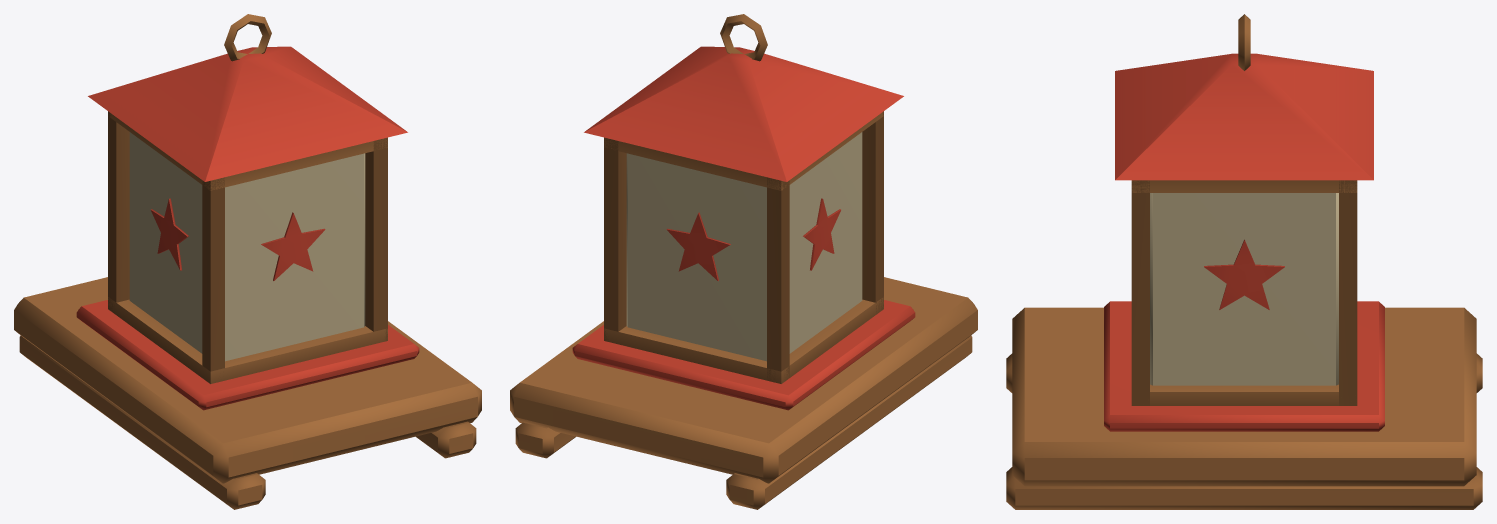
Rendered from lantern-boat.glb.
The picture shows the model from 3 angles, left to right: view 1: azimuth 30°, elevation 25°; view 2: azimuth 150°, elevation 25°; view 3: azimuth 270°, elevation 25°; orthographic projection. The views are drawn at different scales.
Parts seen in each view (by area): view 1: lantern-boat Lantern wood, lantern-boat Lantern trim, lantern-boat Lantern glow; view 2: lantern-boat Lantern wood, lantern-boat Lantern trim, lantern-boat Lantern glow; view 3: lantern-boat Lantern wood, lantern-boat Lantern trim, lantern-boat Lantern glow.
Boxes of the visible parts, bbox=[...] form: lantern-boat Lantern wood: bbox=[14, 14, 481, 509]; lantern-boat Lantern trim: bbox=[76, 46, 419, 410]; lantern-boat Lantern glow: bbox=[129, 132, 365, 361]; lantern-boat Lantern wood: bbox=[510, 14, 977, 509]; lantern-boat Lantern trim: bbox=[572, 46, 915, 410]; lantern-boat Lantern glow: bbox=[626, 132, 862, 361]; lantern-boat Lantern wood: bbox=[1006, 14, 1482, 509]; lantern-boat Lantern trim: bbox=[1104, 53, 1384, 431]; lantern-boat Lantern glow: bbox=[1150, 193, 1338, 385].
Bounding box in the file's own units: 0.56 × 0.78 × 0.78.
